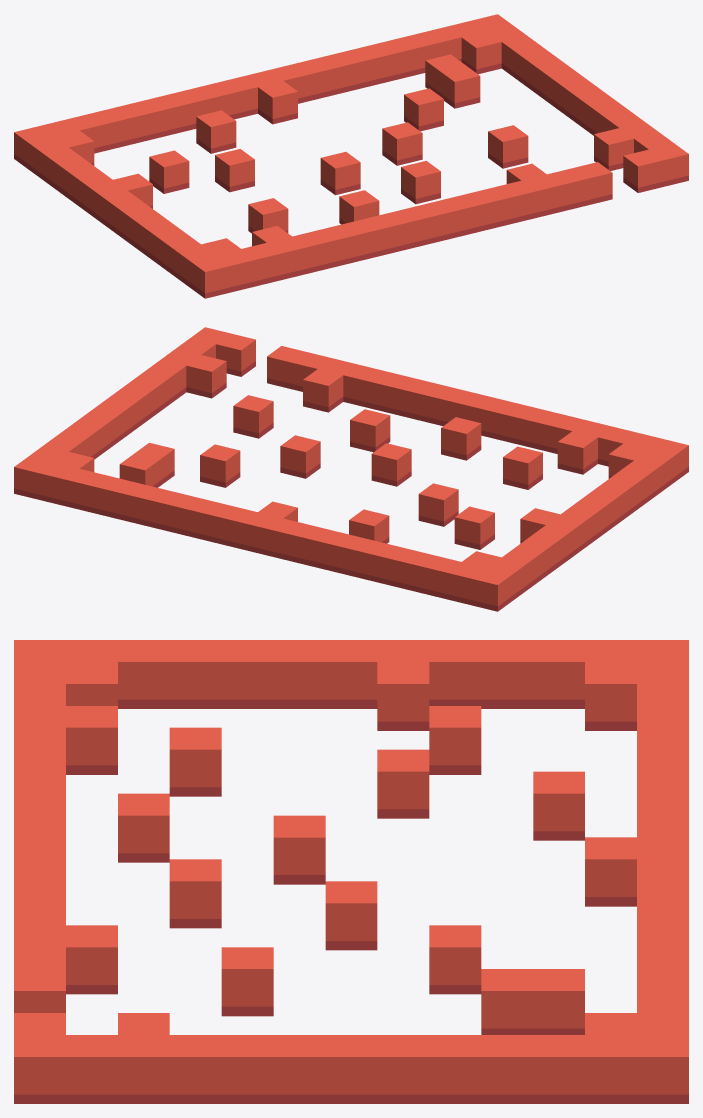
Rendered from map12.obj.
3 renders of one model, top to bottom at view 1: azimuth 30°, elevation 25°; view 2: azimuth 150°, elevation 25°; view 3: azimuth 270°, elevation 25°, orthographic. The views are drawn at different scales.
Visible parts, largest first — view 1: mergedBlocks; view 2: mergedBlocks; view 3: mergedBlocks.
Boxes of the visible parts, x1,y1,x2,y2 form: mergedBlocks: [14, 14, 688, 298]; mergedBlocks: [14, 327, 688, 611]; mergedBlocks: [14, 640, 688, 1103].
Size of the model in its own units: 19 by 1 by 13.
